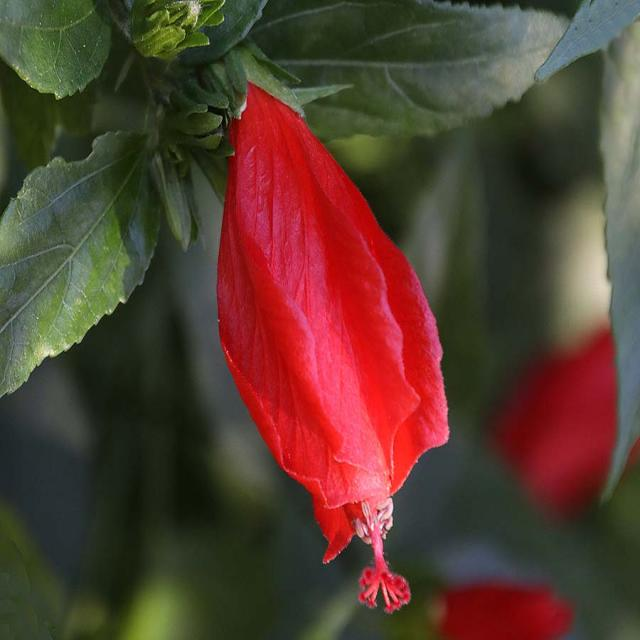Flower: (207, 51, 460, 625)
